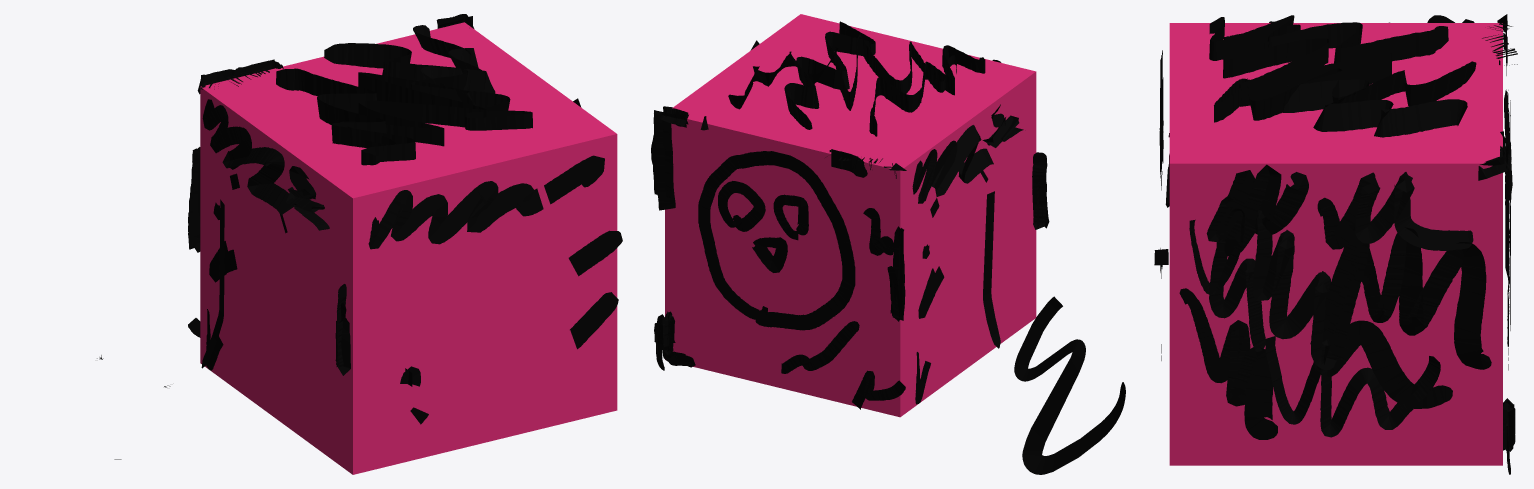
The model's file is prueba grease pencil2.fbx.
The picture shows the model from 3 angles, left to right: view 1: azimuth 30°, elevation 25°; view 2: azimuth 150°, elevation 25°; view 3: azimuth 270°, elevation 25°; orthographic projection. The views are drawn at different scales.
Parts seen in each view (by area): view 1: Cube, GP_Layer.001; view 2: Cube, GP_Layer.001; view 3: Cube, GP_Layer.001.
Boxes of the visible parts, bbox=[...] form: Cube: bbox=[200, 22, 617, 474]; GP_Layer.001: bbox=[97, 14, 622, 459]; Cube: bbox=[665, 14, 1036, 417]; GP_Layer.001: bbox=[651, 21, 1125, 474]; Cube: bbox=[1169, 23, 1502, 465]; GP_Layer.001: bbox=[1154, 14, 1517, 474].
Size of the model in its own units: 1046 by 719 by 610.
